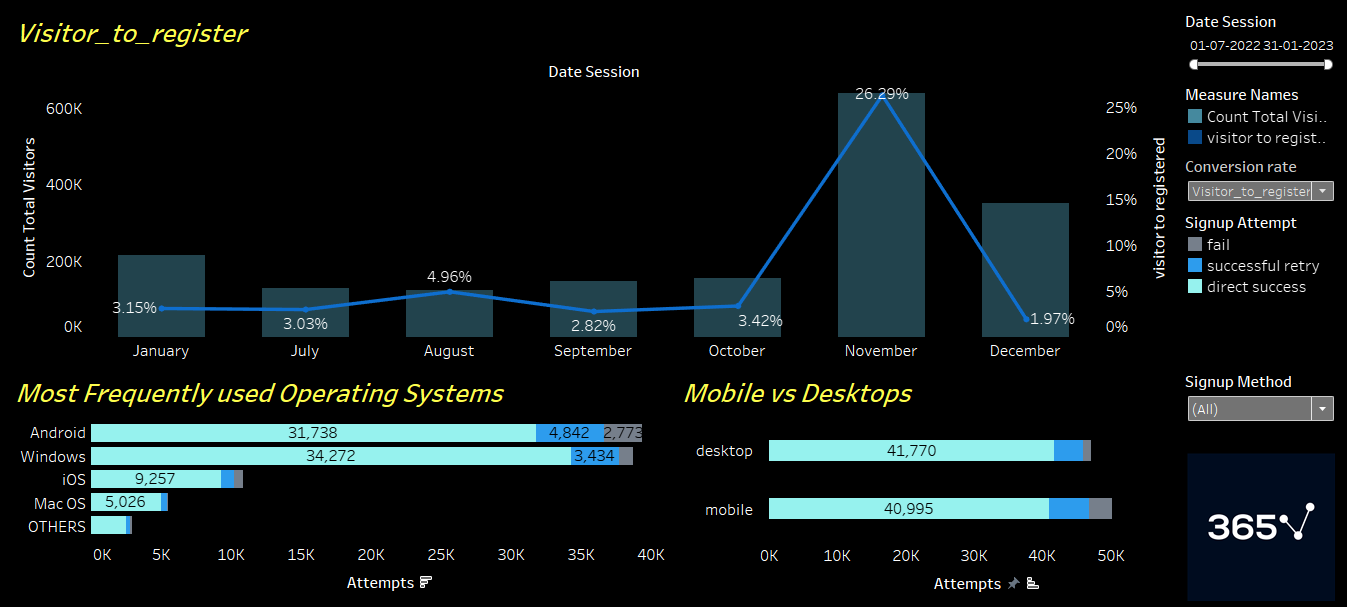

This screenshot's page, from the dashboard's own definition file:
{"tool":"tableau","page":{"name":"Dashboard 1","canvas":[1350,614],"ordinal":0},"visuals":[{"type":"worksheet","title":"Visitor_to_register","mark":"Bar","rows":["count_total_visitors","Calculation_495395959866961920"],"cols":["date_session"],"box":[8,8,1173.9,359]},{"type":"filter","title":"Visitor_to_register","param":"[federated.0j0oegx0yf1gq21dzgaig18uxtd2].[none:date_session:qk]","box":[1181.9,8,160,73]},{"type":"legend","title":"Visitor_to_register","param":"[federated.0j0oegx0yf1gq21dzgaig18uxtd2].[:Measure Names]","box":[1181.9,81,160,72]},{"type":"parameter","param":"[Parameters].[Parameter 1]","box":[1181.9,153,160,56]},{"type":"legend","title":"OS","param":"[federated.1qsjbwr0db1gss15xbih71pdf0zh].[none:signup_attempt:nk]","box":[1181.9,209,160,114]},{"type":"worksheet","title":"Visitor_to_free","mark":"Bar","rows":["count_total_visitors","Calculation_495395959867277313"],"cols":["date_session"],"box":[8,367,1173.9,1]},{"type":"worksheet","title":"OS","mark":"Automatic","cols":["Calculation_495395959871774722"],"box":[8,368,667,238]},{"type":"worksheet","title":"devices","mark":"Automatic","rows":["device"],"cols":["Calculation_495395959871774722"],"box":[675,368,507,238]},{"type":"filter","title":"devices","param":"[federated.1qsjbwr0db1gss15xbih71pdf0zh].[none:signup_method:nk]","box":[1182,368,160,82]},{"type":"image","param":"C:/Users/singh/Downloads/sql+tableau.twb Files/Image/0x0.png","box":[1182,450,160,156]}]}

Visuals, with their boxes in screenshot pixels (x1, y1, x2, y2), scaled from the page's 1350x614 canvas onto the 1347x607 screenshot:
"Visitor_to_register" worksheet (Bar marks): bbox=(8, 8, 1179, 363)
"Visitor_to_register" filter: bbox=(1179, 8, 1339, 80)
"Visitor_to_register" legend: bbox=(1179, 80, 1339, 151)
parameter: bbox=(1179, 151, 1339, 207)
"OS" legend: bbox=(1179, 207, 1339, 319)
"Visitor_to_free" worksheet (Bar marks): bbox=(8, 363, 1179, 364)
"OS" worksheet: bbox=(8, 364, 674, 599)
"devices" worksheet: bbox=(674, 364, 1179, 599)
"devices" filter: bbox=(1179, 364, 1339, 445)
image: bbox=(1179, 445, 1339, 599)
